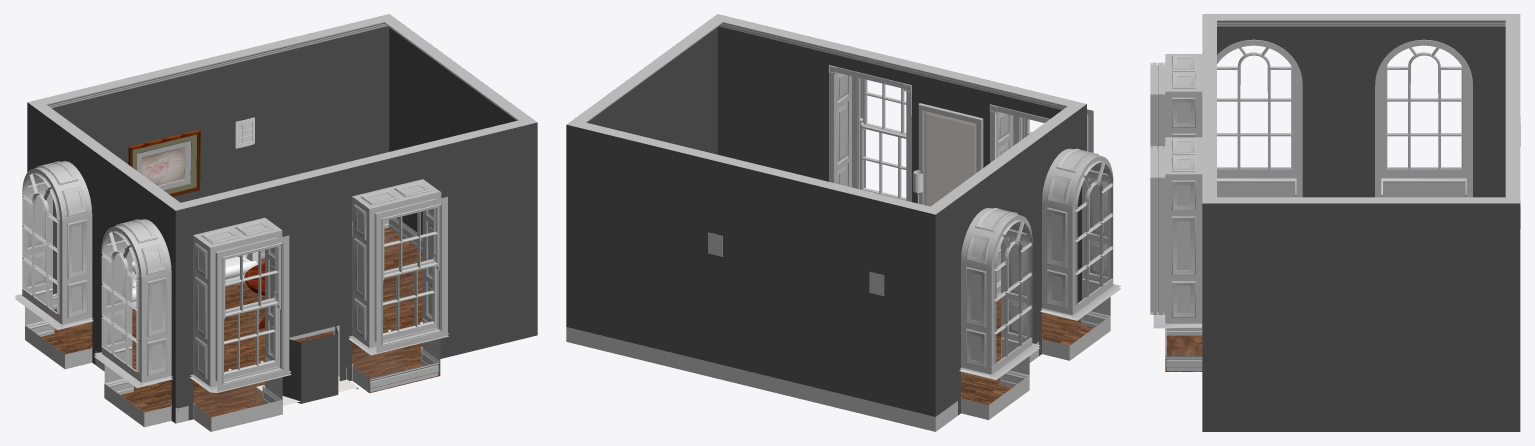
The model's file is grey_room.glb.
3 views of the same model, side by side, from view 1: azimuth 30°, elevation 25°; view 2: azimuth 150°, elevation 25°; view 3: azimuth 270°, elevation 25° (orthographic). The views are drawn at different scales.
Parts seen in each view (by area): view 1: 33_Walls, 32_Floor, 27_Paneling, 35_Paneling, 00_Paneling, 36_Paneling, 20_Paneling, 21_Paneling, 15_Paneling, 16_Paneling, 26_Walls, 18_Paneling (+9 smaller); view 2: 33_Walls, 35_Paneling, 27_Paneling, 00_Paneling, 36_Paneling, 29_Mirror, 20_Paneling, 32_Floor, 21_Paneling, 30_Paneling, 22_Paneling, 15_Paneling (+3 smaller); view 3: 33_Walls, 35_Paneling, 21_Paneling, 00_Paneling, 27_Paneling, 16_Paneling, 20_Paneling, 34_MattePaint, 15_Paneling, 36_Paneling, 32_Floor.
Part boxes in pixels (left/top/right/bottom): 33_Walls: left=27, top=26, right=537, bottom=423; 32_Floor: left=41, top=227, right=439, bottom=431; 27_Paneling: left=94, top=219, right=177, bottom=423; 35_Paneling: left=28, top=14, right=537, bottom=210; 00_Paneling: left=14, top=161, right=93, bottom=347; 36_Paneling: left=25, top=218, right=439, bottom=431; 20_Paneling: left=352, top=191, right=447, bottom=379; 21_Paneling: left=348, top=179, right=448, bottom=355; 15_Paneling: left=193, top=230, right=289, bottom=417; 16_Paneling: left=190, top=217, right=291, bottom=392; 26_Walls: left=282, top=325, right=338, bottom=403; 18_Paneling: left=224, top=291, right=278, bottom=379; 33_Walls: left=566, top=26, right=1086, bottom=416; 35_Paneling: left=567, top=14, right=1086, bottom=214; 27_Paneling: left=1040, top=148, right=1121, bottom=339; 00_Paneling: left=959, top=208, right=1040, bottom=398; 36_Paneling: left=566, top=280, right=1110, bottom=431; 29_Mirror: left=924, top=111, right=976, bottom=206; 20_Paneling: left=828, top=65, right=911, bottom=201; 32_Floor: left=961, top=298, right=1093, bottom=404; 21_Paneling: left=834, top=72, right=851, bottom=187; 30_Paneling: left=918, top=103, right=983, bottom=204; 22_Paneling: left=860, top=118, right=906, bottom=200; 15_Paneling: left=989, top=104, right=1093, bottom=296; 33_Walls: left=1202, top=26, right=1520, bottom=431; 35_Paneling: left=1202, top=14, right=1520, bottom=203; 21_Paneling: left=1153, top=137, right=1202, bottom=328; 00_Paneling: left=1375, top=39, right=1472, bottom=197; 27_Paneling: left=1217, top=39, right=1302, bottom=197; 16_Paneling: left=1165, top=54, right=1202, bottom=137; 20_Paneling: left=1150, top=146, right=1165, bottom=314; 34_MattePaint: left=1217, top=183, right=1466, bottom=197; 15_Paneling: left=1150, top=62, right=1165, bottom=148; 36_Paneling: left=1165, top=328, right=1202, bottom=370; 32_Floor: left=1165, top=335, right=1202, bottom=371.
Bounding box in the file's own units: 5.64 × 2.88 × 4.23.
15 materials, 3 textured.
